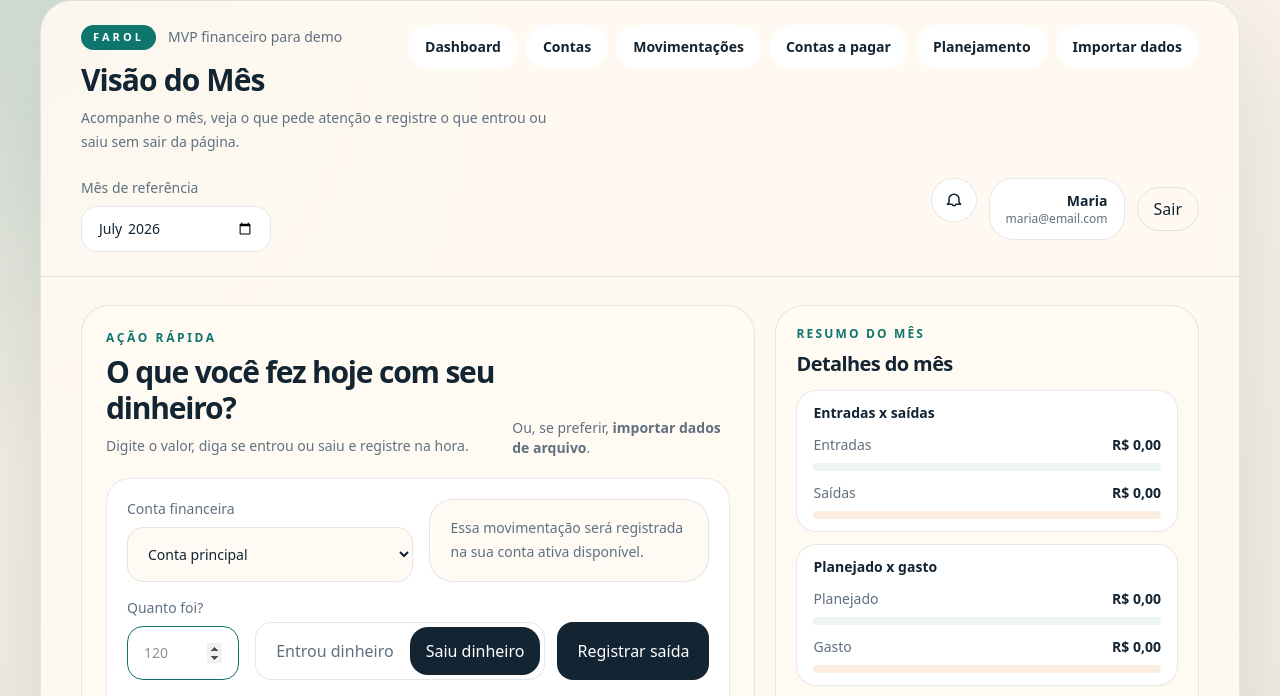
Test case: DashboardPage › Dashboard_RegisterNow_SwitchingTypeUpdatesVisibleCategories
The width and height of the screenshot is (1280, 696).
Expected: the button "Salário" is not shown
Click the button "Entrou dinheiro": coordinates (335, 650) [260,626,410,674]
(page scrolled)
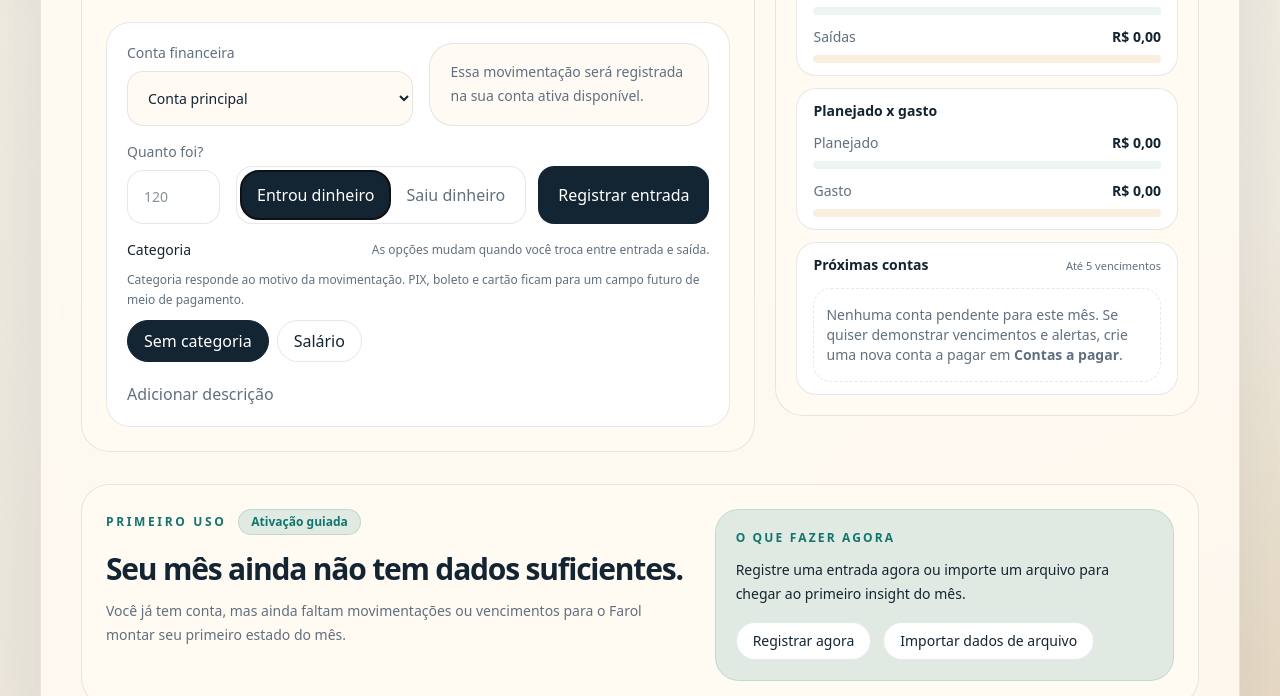
Now the button "Salário" is shown, box [277,320,362,362]
